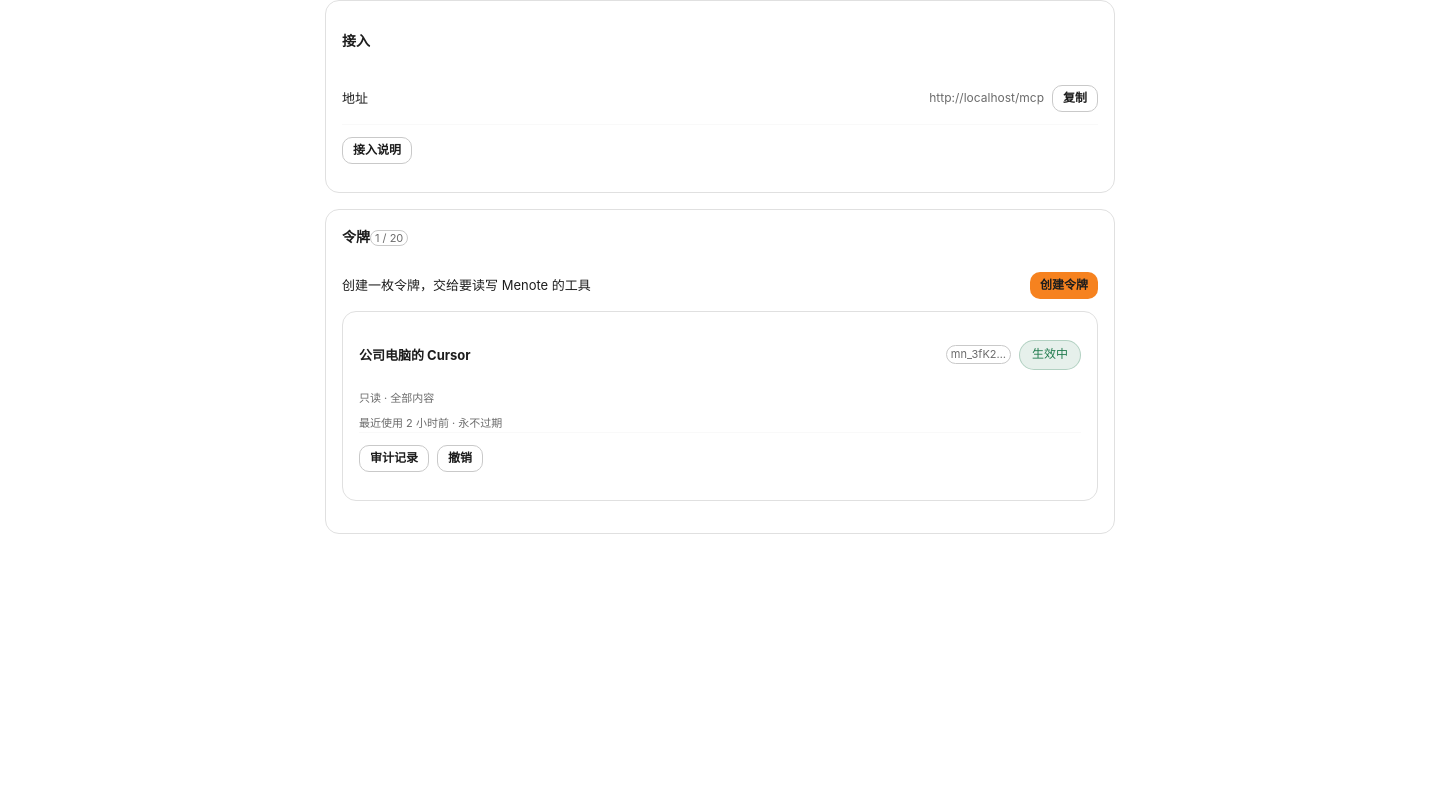
Scenario: 设置 › MCP：审计 › 工具名给中文；条目标题而不是内部 id；被拒绝显眼
Expected: the text "公司电脑的 Cursor" is shown, [359,345,471,365]
Click the button "审计记录". click: click(394, 458)
box: [359,445,429,472]
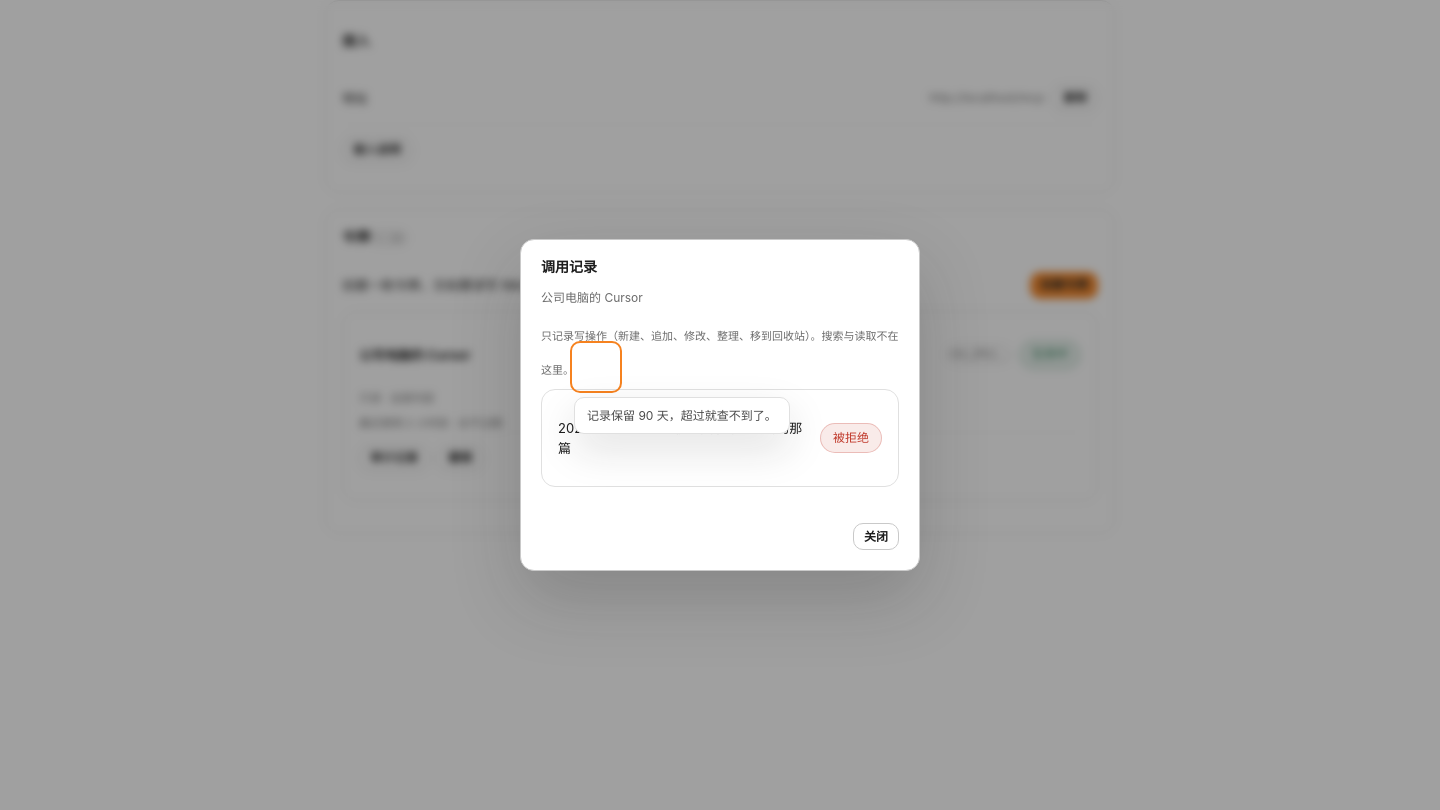
Now the text "2026-10-03 13:11 · 移到回收站 · 要删的那篇" is shown, box [558,418,804,458]
Now the text "被拒绝" is shown, box [820,423,882,453]
